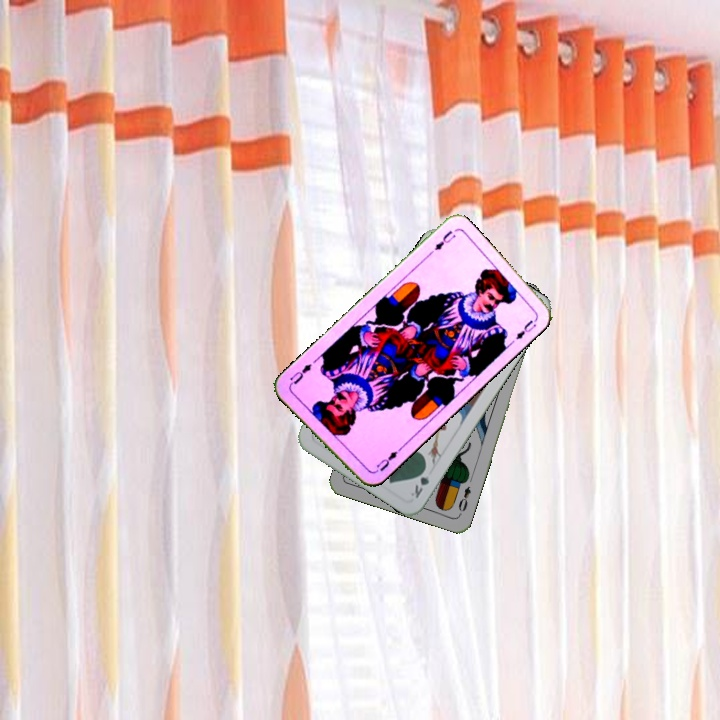EO: (454, 482, 474, 514)
EU: (372, 444, 404, 474), (431, 227, 458, 253)
GK: (406, 462, 432, 501)
